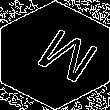M_SW: (17, 22, 93, 88)
